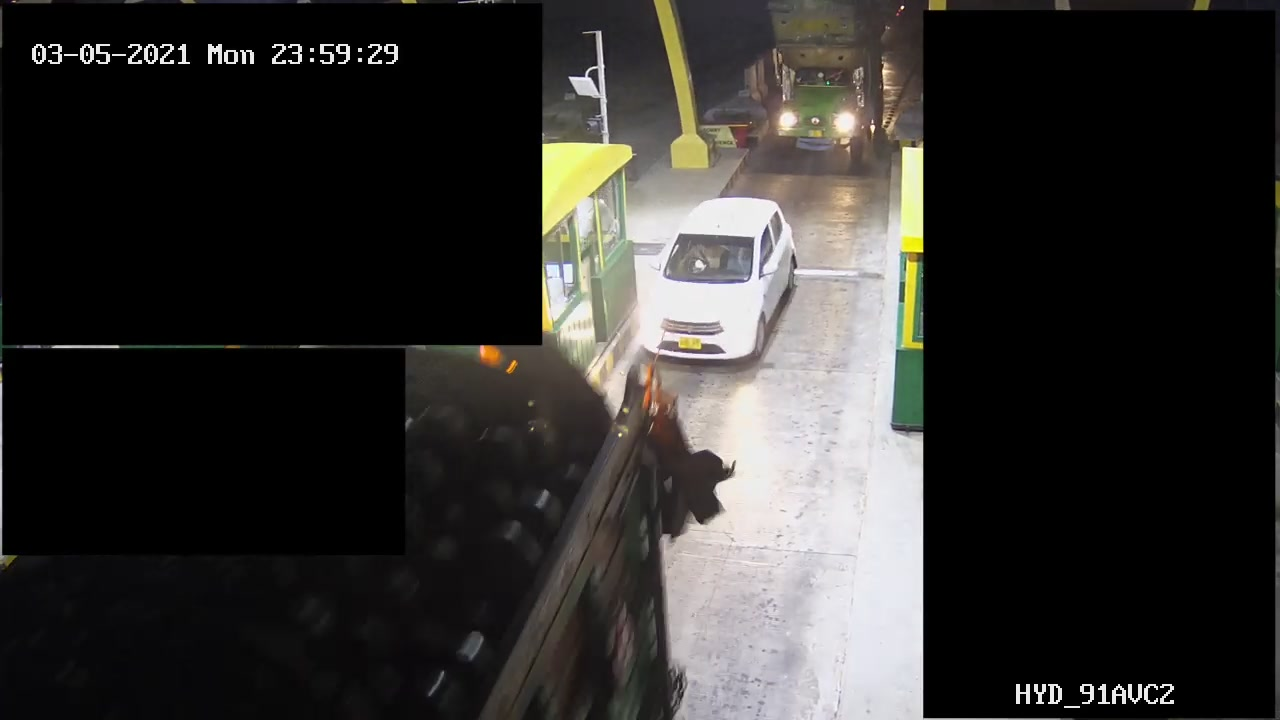F1: (620, 193, 817, 365)
